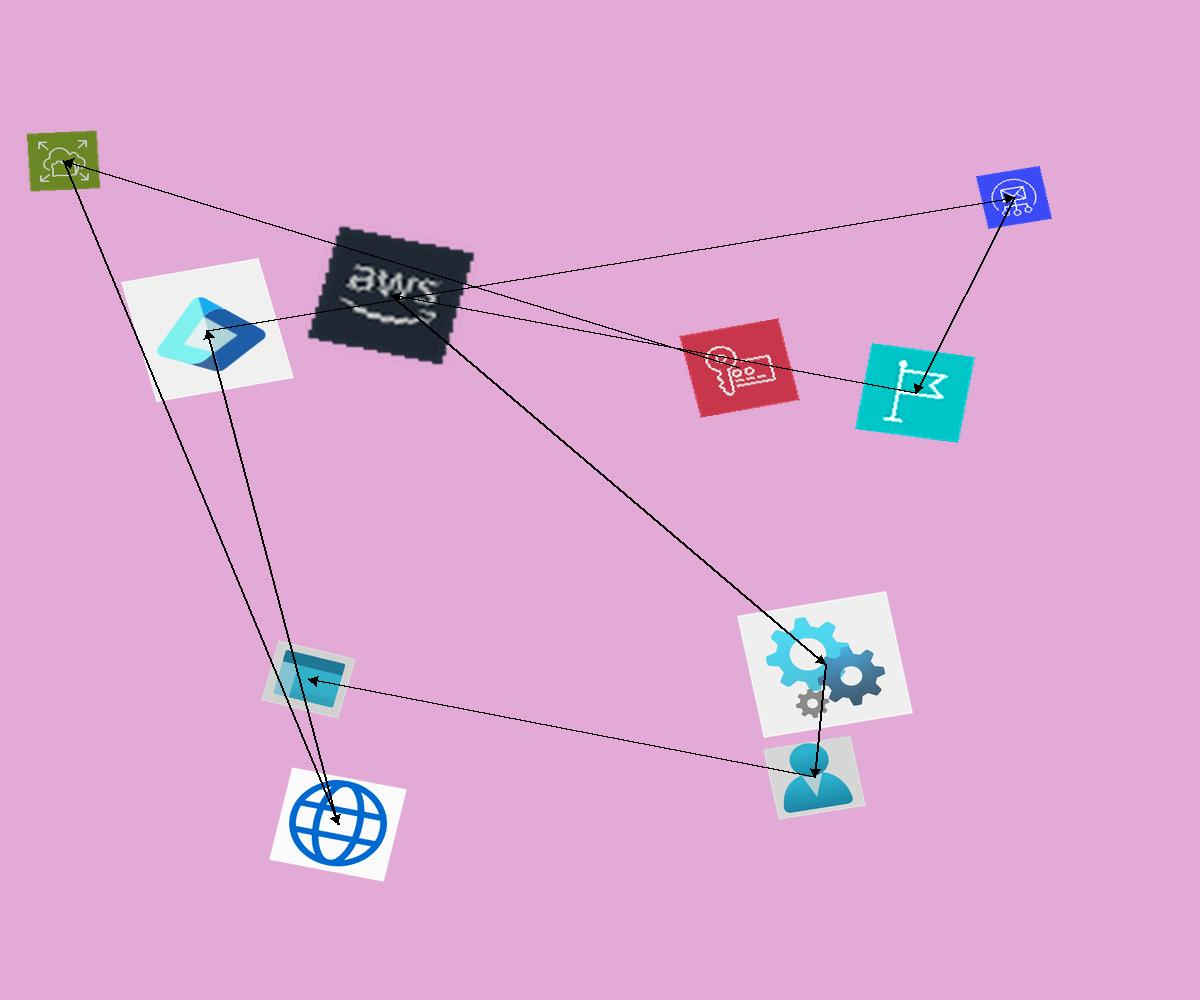AWS-Cloud-logo: (305, 224, 477, 367)
AWS-EFS: (26, 130, 101, 192)
AWS-Key-Management-Service: (679, 318, 800, 418)
AWS-Region: (855, 343, 975, 443)
AWS-Simple-Email-Service: (976, 166, 1052, 229)
Azure_api: (737, 591, 913, 738)
Azure_http: (269, 767, 407, 882)
Azure_management-portal: (261, 640, 356, 719)
Azure_microsoft_entra: (121, 258, 294, 402)
Azure_users: (763, 735, 866, 820)
